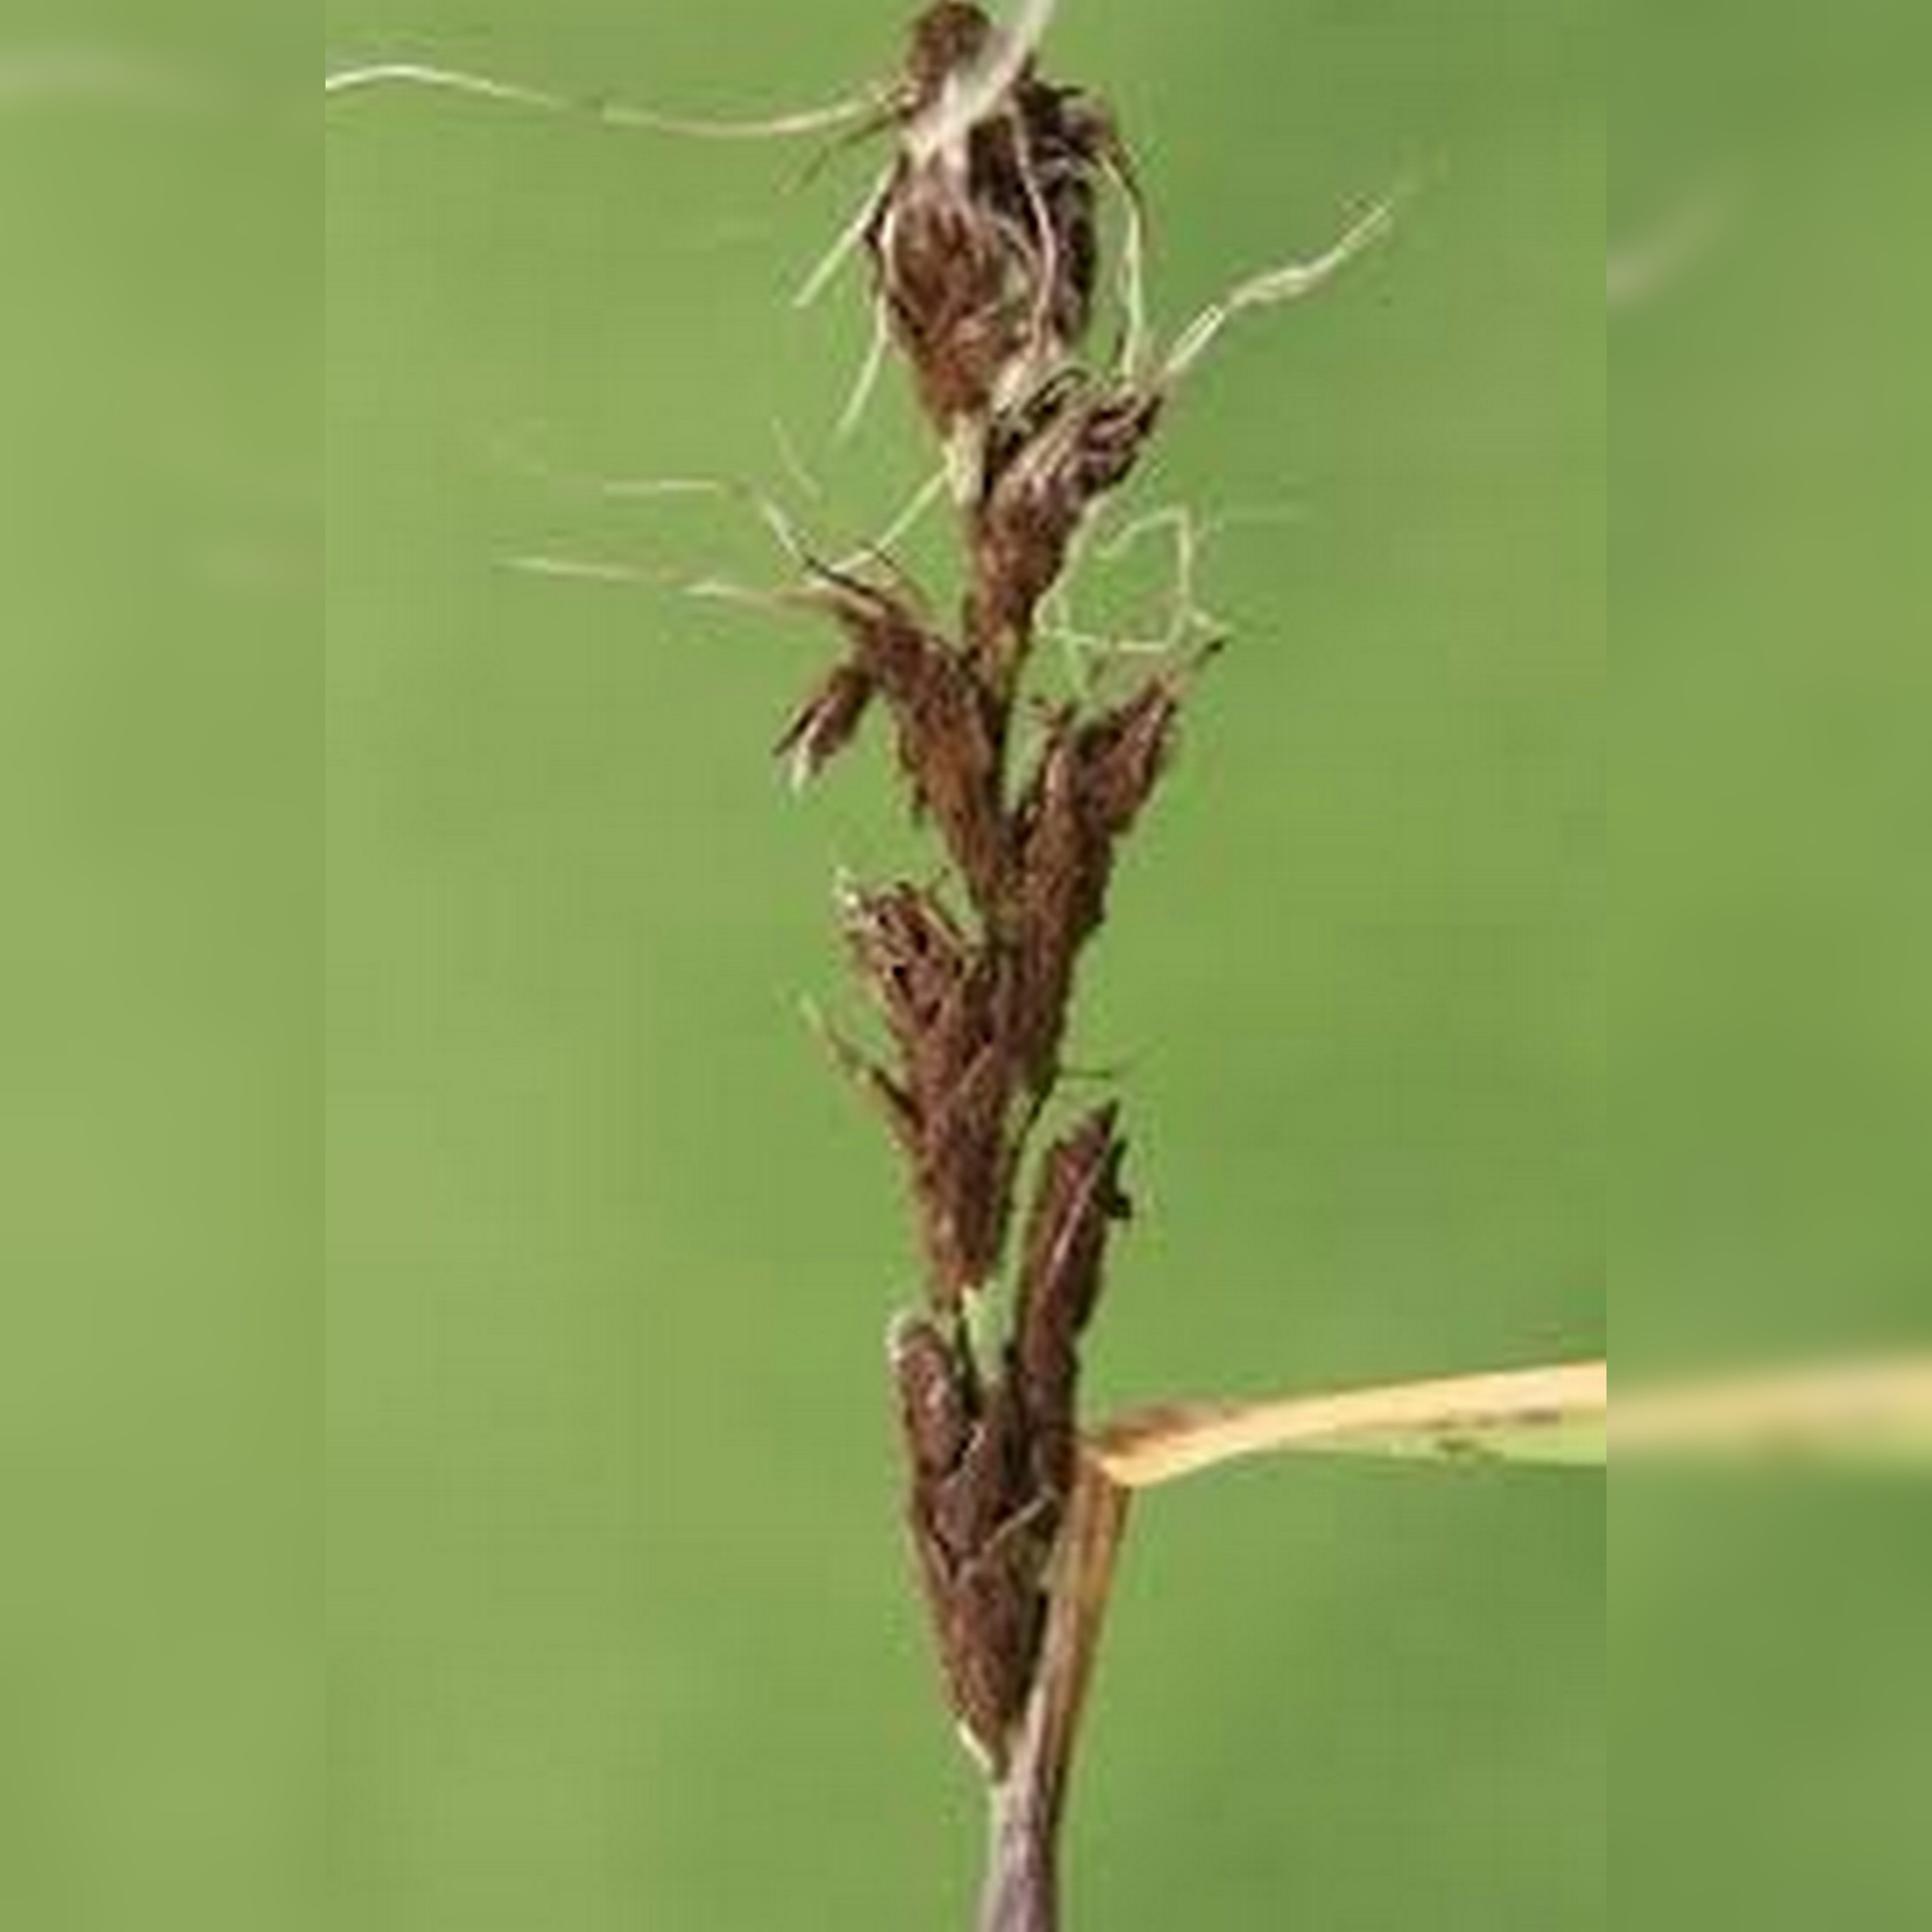Wheat Loose Smut: (709, 23, 1219, 1725)
